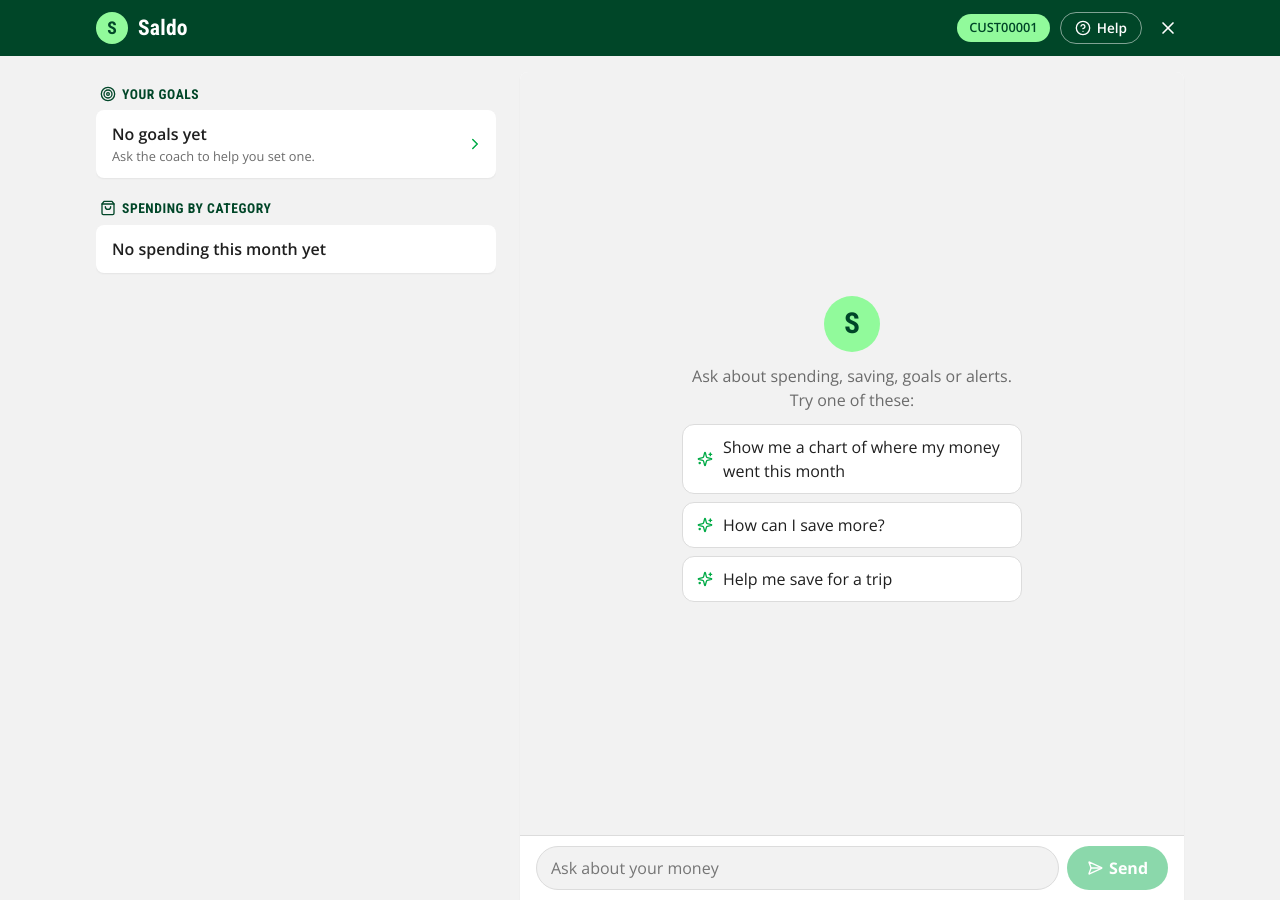
Test case: goals panel › reloads goals after a chat reply
The image size is (1280, 900).
Expected: the text "No goals yet" is shown, [112,123,207,145]
In the field named "Message": (798, 868) [536,846,1059,890], type "yes"
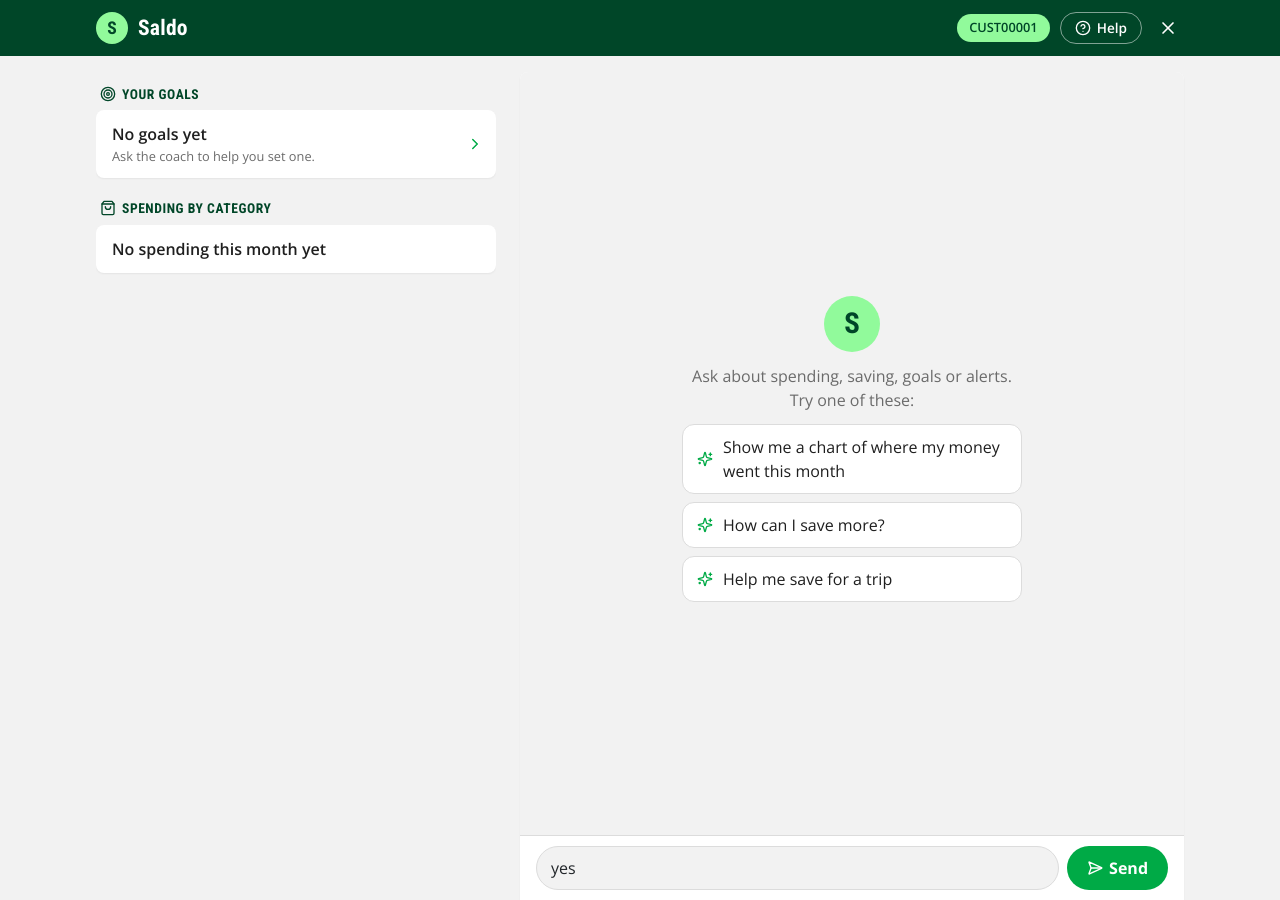
Click the button "Send": (1118, 868) [1067,846,1168,890]
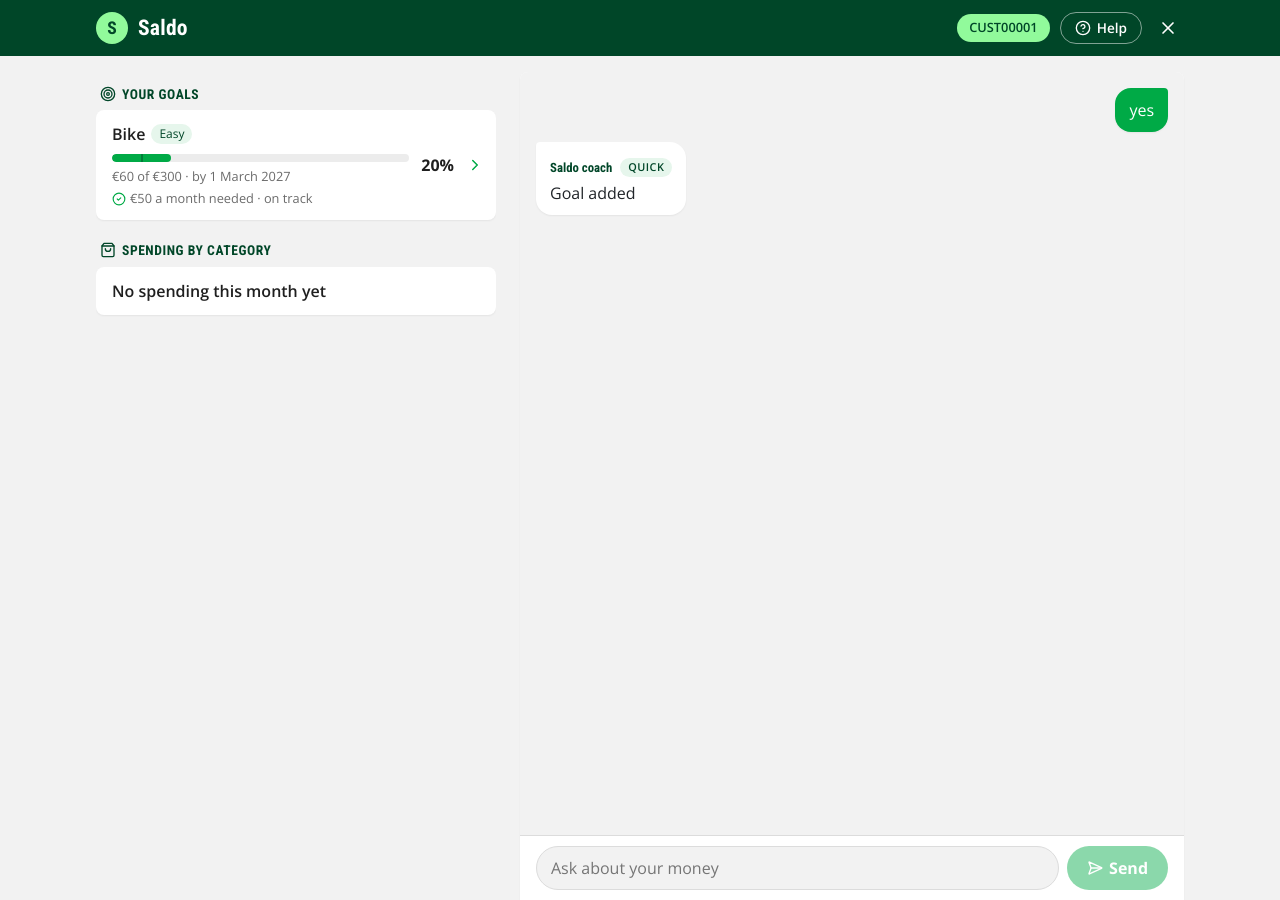
Now the text "Bike" is shown, box [112,123,145,145]
Now the button "No goals yet" is gone
